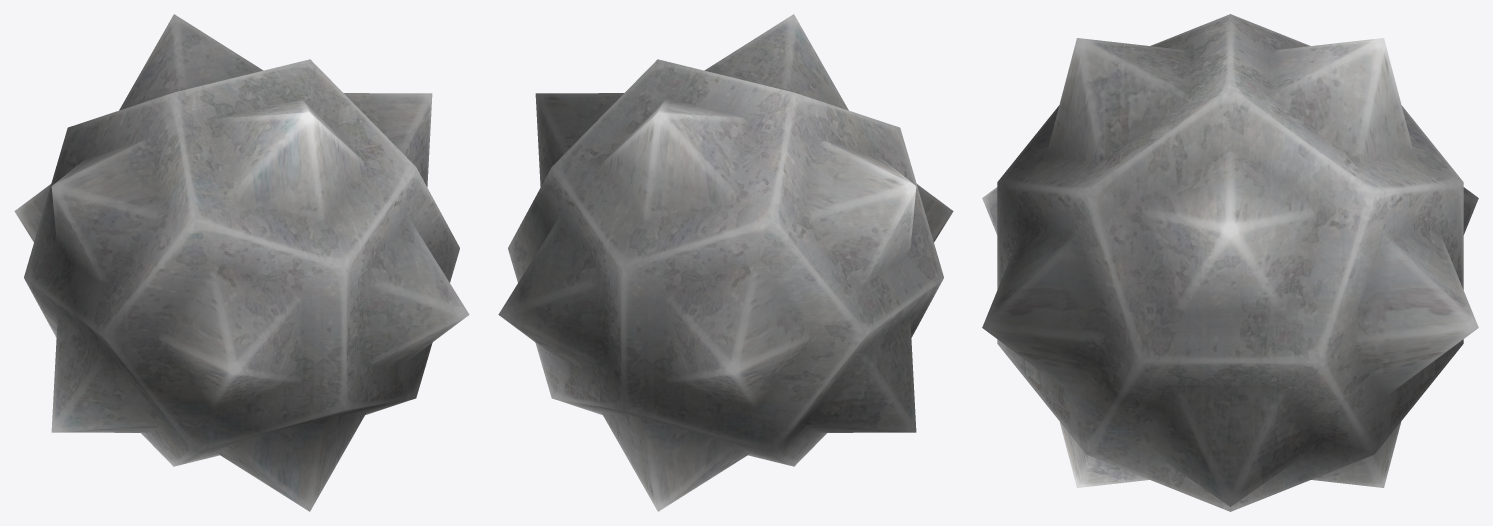
File: Projectile.fbx
The picture shows the model from 3 angles, left to right: view 1: azimuth 30°, elevation 25°; view 2: azimuth 150°, elevation 25°; view 3: azimuth 270°, elevation 25°; orthographic projection. The views are drawn at different scales.
Visible parts, largest first — view 1: Projectile2HP; view 2: Projectile2HP; view 3: Projectile2HP.
Part boxes in pixels (<box>): Projectile2HP: <box>14,14,469,511</box>; Projectile2HP: <box>498,14,953,511</box>; Projectile2HP: <box>982,14,1478,511</box>.
Bounding box in the file's own units: 47.76 × 47.76 × 47.76.
